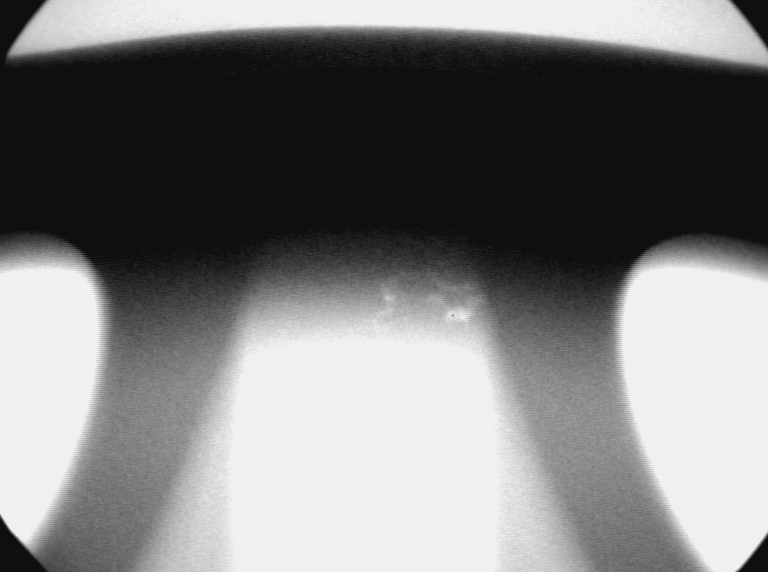defect: (366, 262, 490, 338)
